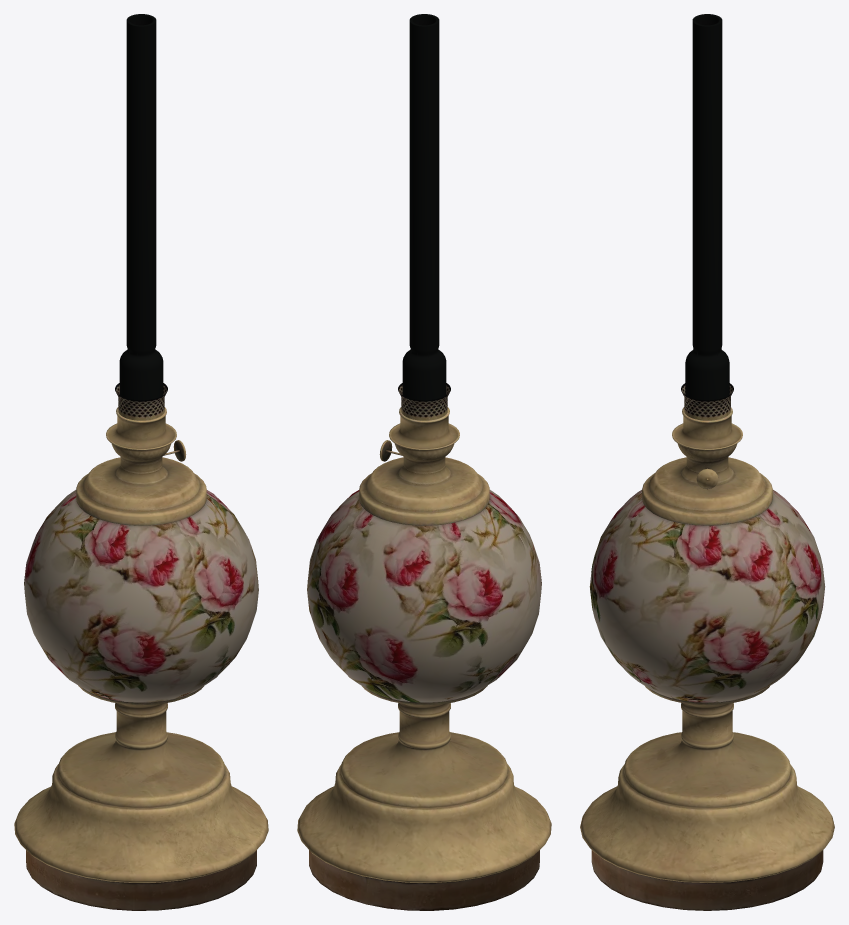
File: vintage_oil_lamp.glb
3 views of the same model, side by side, from view 1: azimuth 30°, elevation 25°; view 2: azimuth 150°, elevation 25°; view 3: azimuth 270°, elevation 25° (orthographic).
Visible parts, largest first — view 1: vintage_oil_lamp, vintage_oil_lamp_glass; view 2: vintage_oil_lamp, vintage_oil_lamp_glass; view 3: vintage_oil_lamp, vintage_oil_lamp_glass.
Boxes of the visible parts, <box> form: vintage_oil_lamp: <box>14,407,268,910</box>; vintage_oil_lamp_glass: <box>115,14,167,420</box>; vintage_oil_lamp: <box>297,407,551,910</box>; vintage_oil_lamp_glass: <box>398,14,450,420</box>; vintage_oil_lamp: <box>580,407,834,910</box>; vintage_oil_lamp_glass: <box>681,14,733,420</box>.
Size of the model in its own units: 0.22 by 0.8016 by 0.22.
3 materials, 3 textured.
